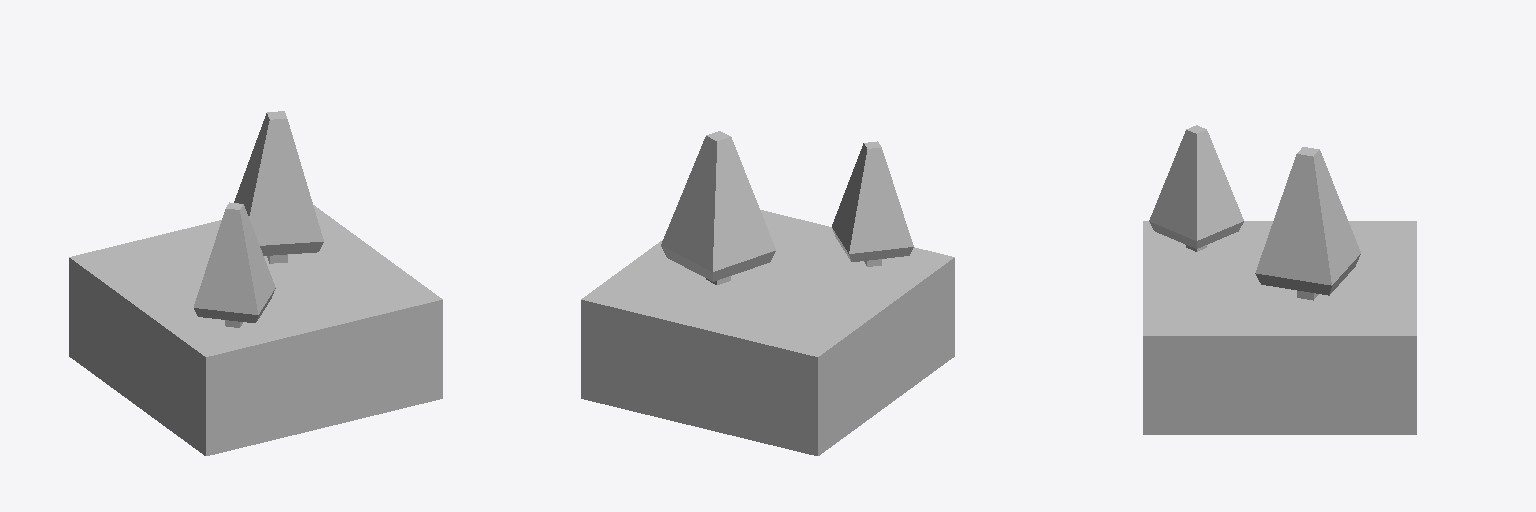
The model's file is tile_058.obj.
3 views of the same model, side by side, from view 1: azimuth 30°, elevation 25°; view 2: azimuth 150°, elevation 25°; view 3: azimuth 270°, elevation 25° (orthographic).
Parts seen in each view (by area): view 1: tile_058, Component#2; view 2: tile_058, Component#2; view 3: tile_058, Component#2.
Boxes of the visible parts, x1,y1,x2,y2 form: tile_058: [69, 205, 442, 455]; Component#2: [194, 111, 323, 327]; tile_058: [581, 210, 954, 455]; Component#2: [661, 131, 913, 284]; tile_058: [1143, 221, 1416, 434]; Component#2: [1149, 125, 1360, 300].
Size of the model in its own units: 1 by 0.9802 by 1.